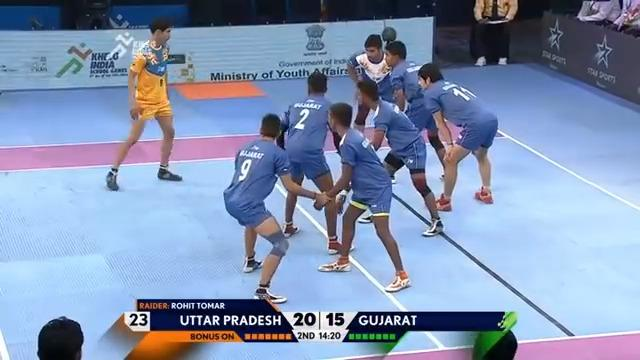Player: (222, 112, 328, 303), (315, 102, 411, 292), (276, 69, 354, 254), (353, 78, 444, 236), (416, 62, 498, 211), (382, 39, 448, 180), (345, 33, 397, 134)
Raider: (105, 17, 183, 191)
referee: (471, 0, 518, 66), (605, 0, 639, 35), (575, 0, 618, 25)
